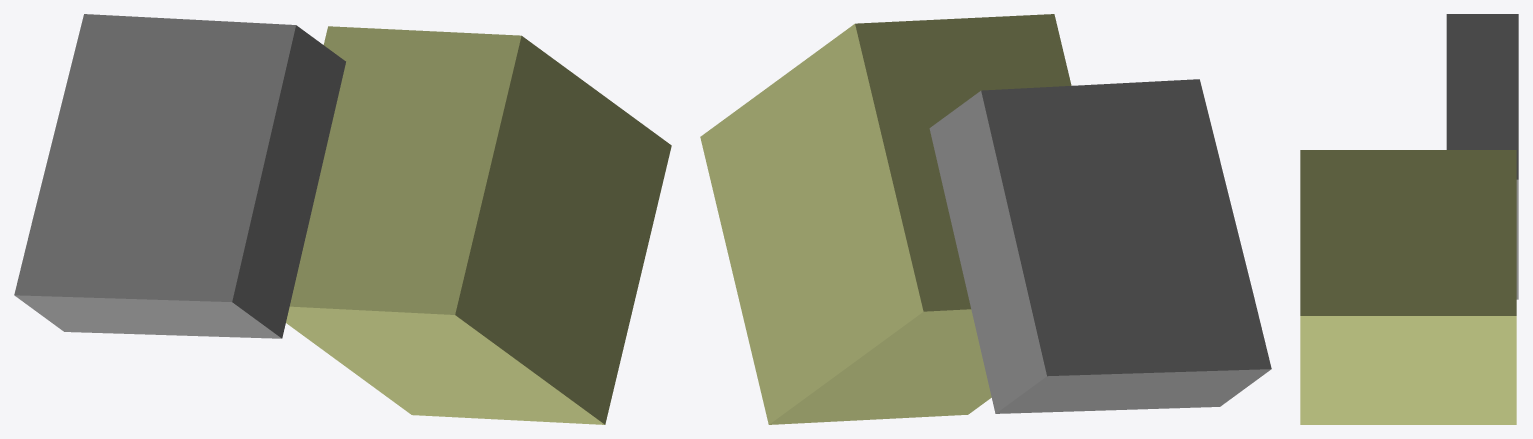
3 renders of one model, left to right at view 1: azimuth 30°, elevation 25°; view 2: azimuth 150°, elevation 25°; view 3: azimuth 270°, elevation 25°, orthographic. The views are drawn at different scales.
Visible parts, largest first — view 1: 0_1_2_0_1_3_3_1_0_0; view 2: 0_1_2_0_1_3_3_1_0_0; view 3: 0_1_2_0_1_3_3_1_0_0.
Boxes of the visible parts, x1=… form: 0_1_2_0_1_3_3_1_0_0: x1=14, y1=14, x2=671, y2=424; 0_1_2_0_1_3_3_1_0_0: x1=700, y1=14, x2=1271, y2=424; 0_1_2_0_1_3_3_1_0_0: x1=1300, y1=14, x2=1518, y2=424.
Bounding box in the file's own units: 17.51 × 12.9 × 9.09.
